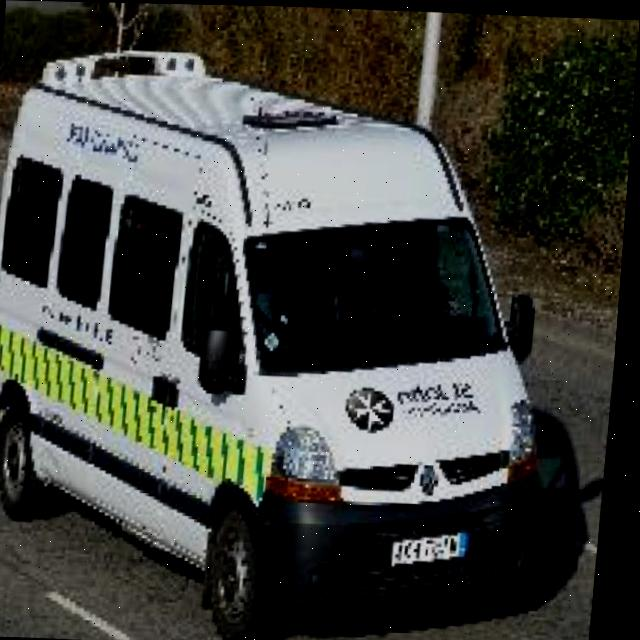emergency: (0, 41, 598, 640)
